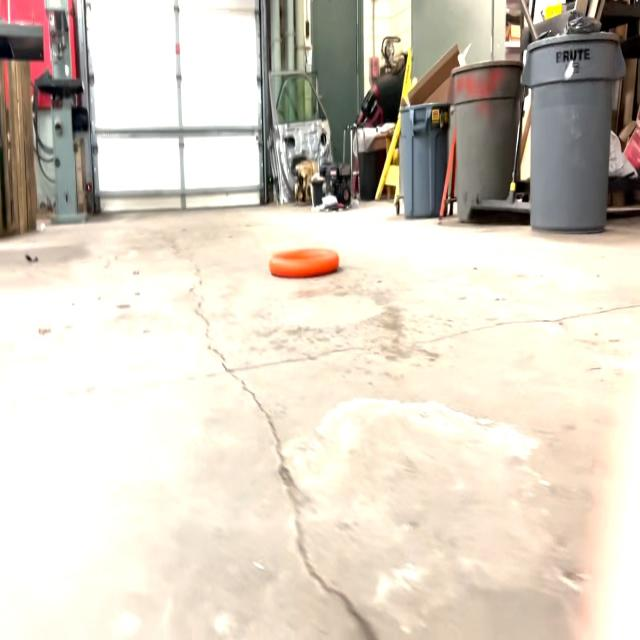note: (266, 246, 341, 278)
